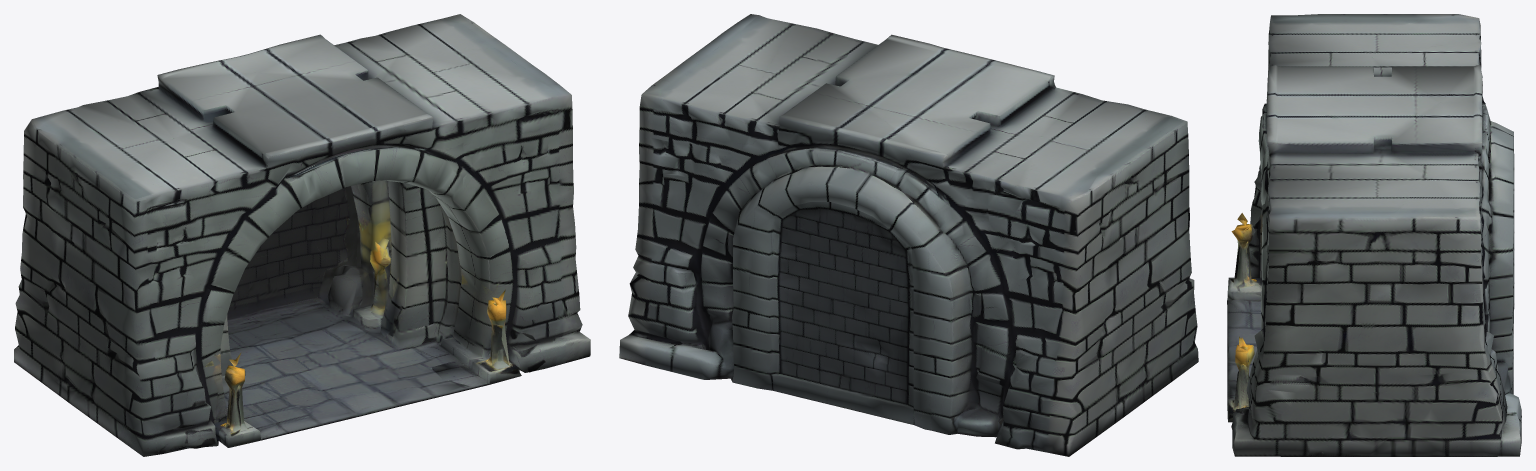
The model's file is dungeon_entrance_dark_archway_torches_s3633203826.glb.
The picture shows the model from 3 angles, left to right: view 1: azimuth 30°, elevation 25°; view 2: azimuth 150°, elevation 25°; view 3: azimuth 270°, elevation 25°; orthographic projection. The views are drawn at different scales.
Visible parts, largest first — view 1: Mesh_0; view 2: Mesh_0; view 3: Mesh_0.
Boxes of the visible parts, <box> form: Mesh_0: <box>14,14,590,456</box>; Mesh_0: <box>619,14,1198,456</box>; Mesh_0: <box>1227,14,1521,456</box>.
Bounding box in the file's own units: 3.52 × 2 × 2.13.
1 material, 1 textured.
